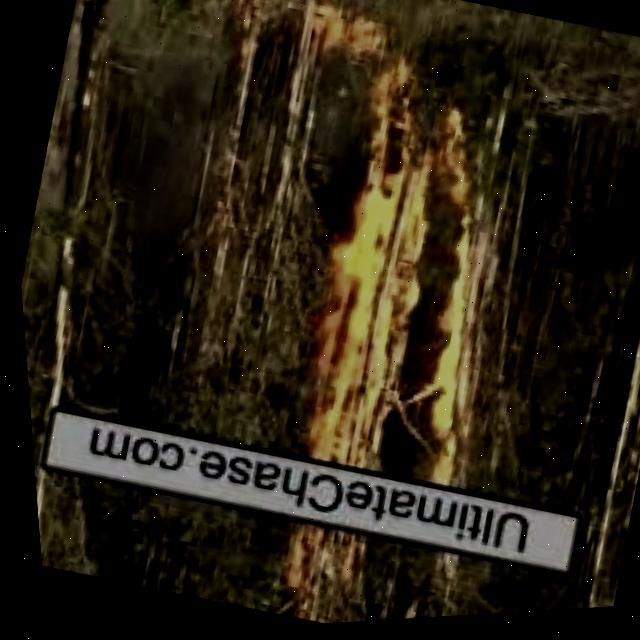Fire: (247, 55, 557, 500), (257, 513, 368, 629), (302, 2, 392, 59)
